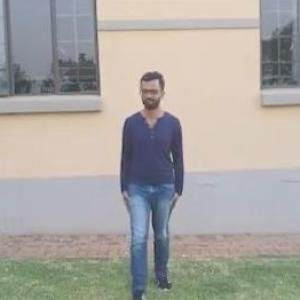follow: (116, 69, 186, 299)
